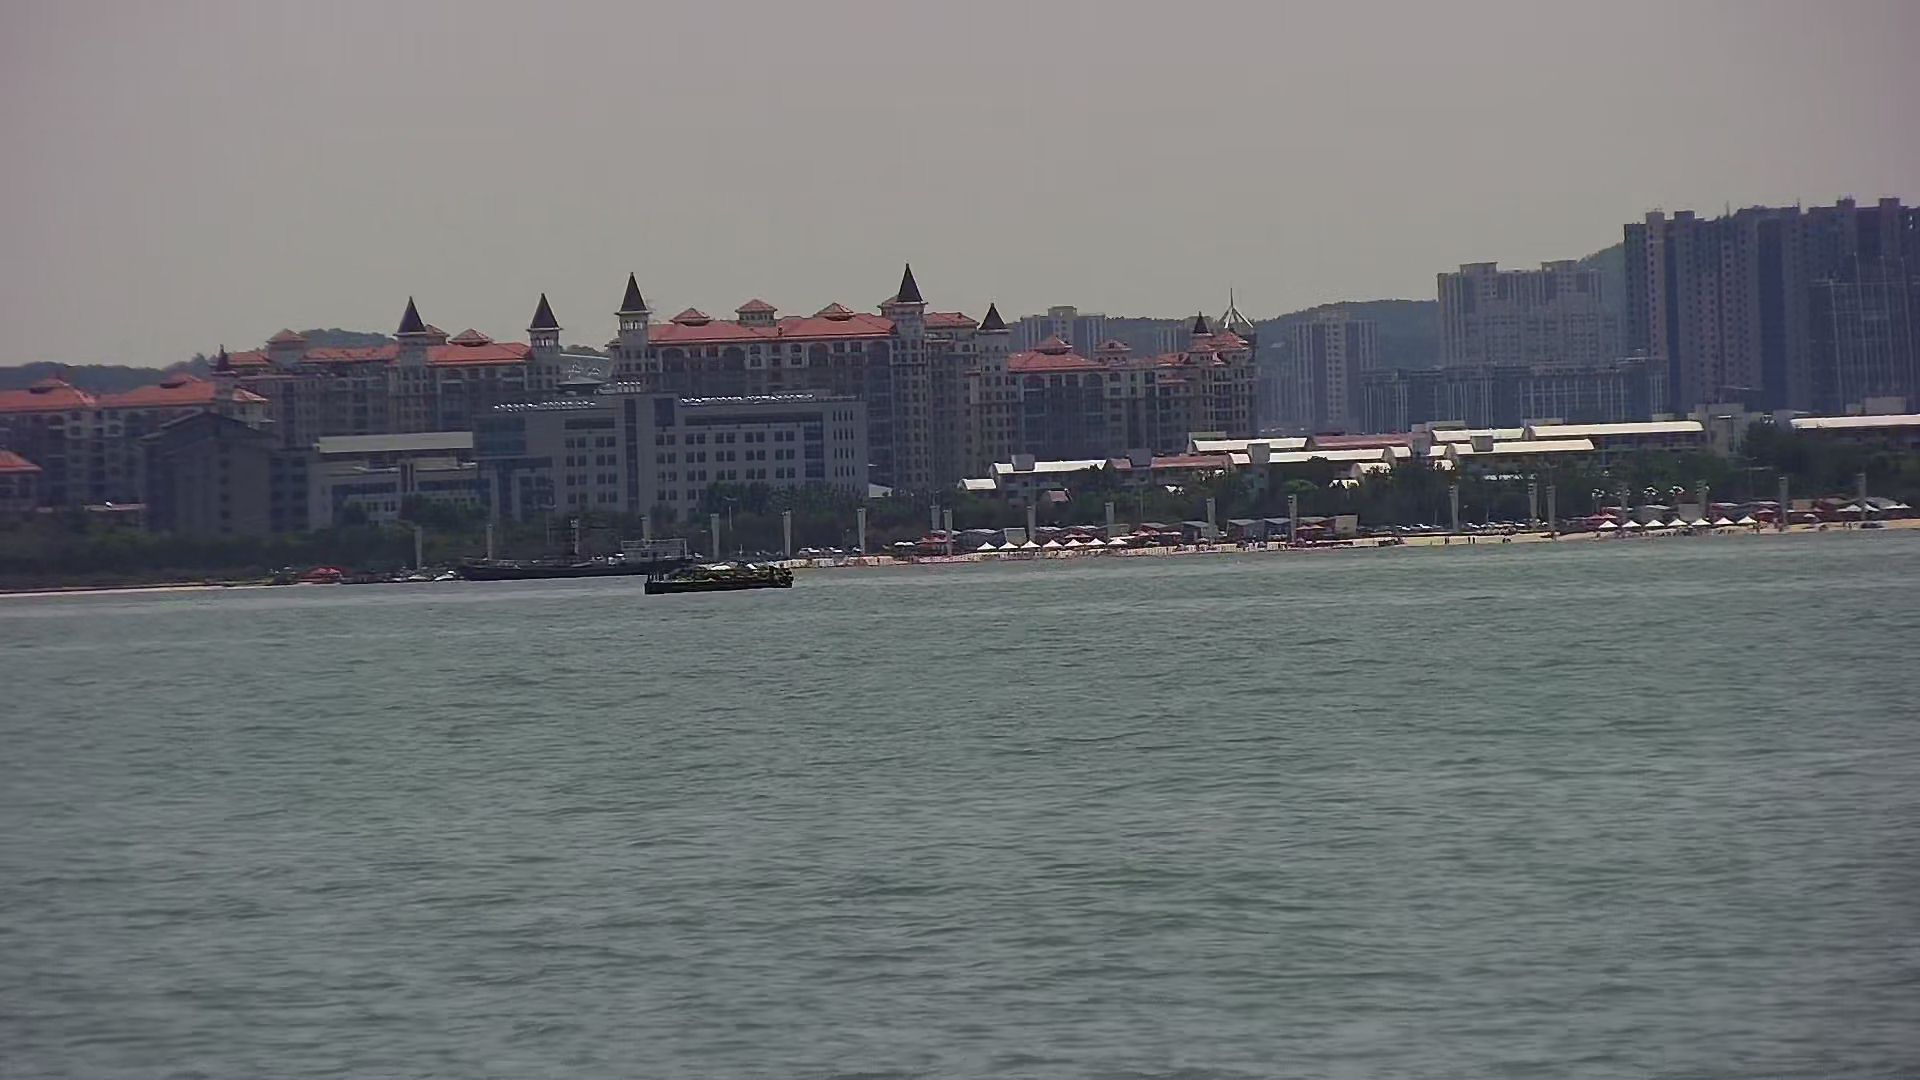platform: (647, 567, 796, 596)
